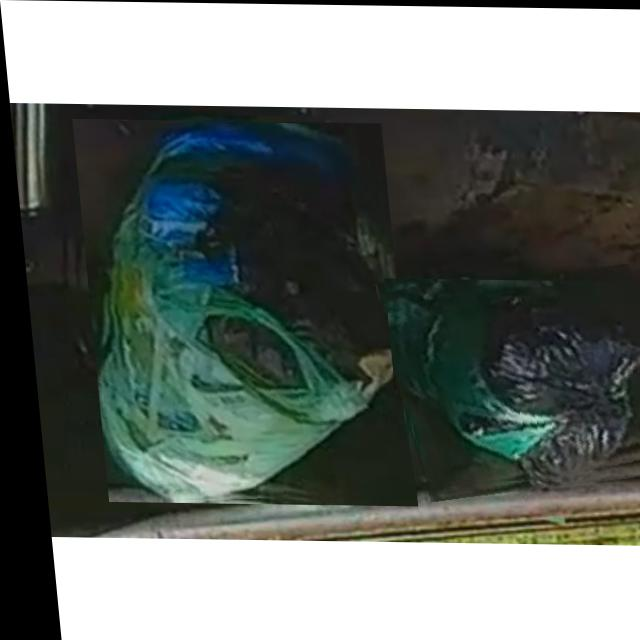general_trashbag: (91, 121, 391, 500), (381, 279, 639, 479)
